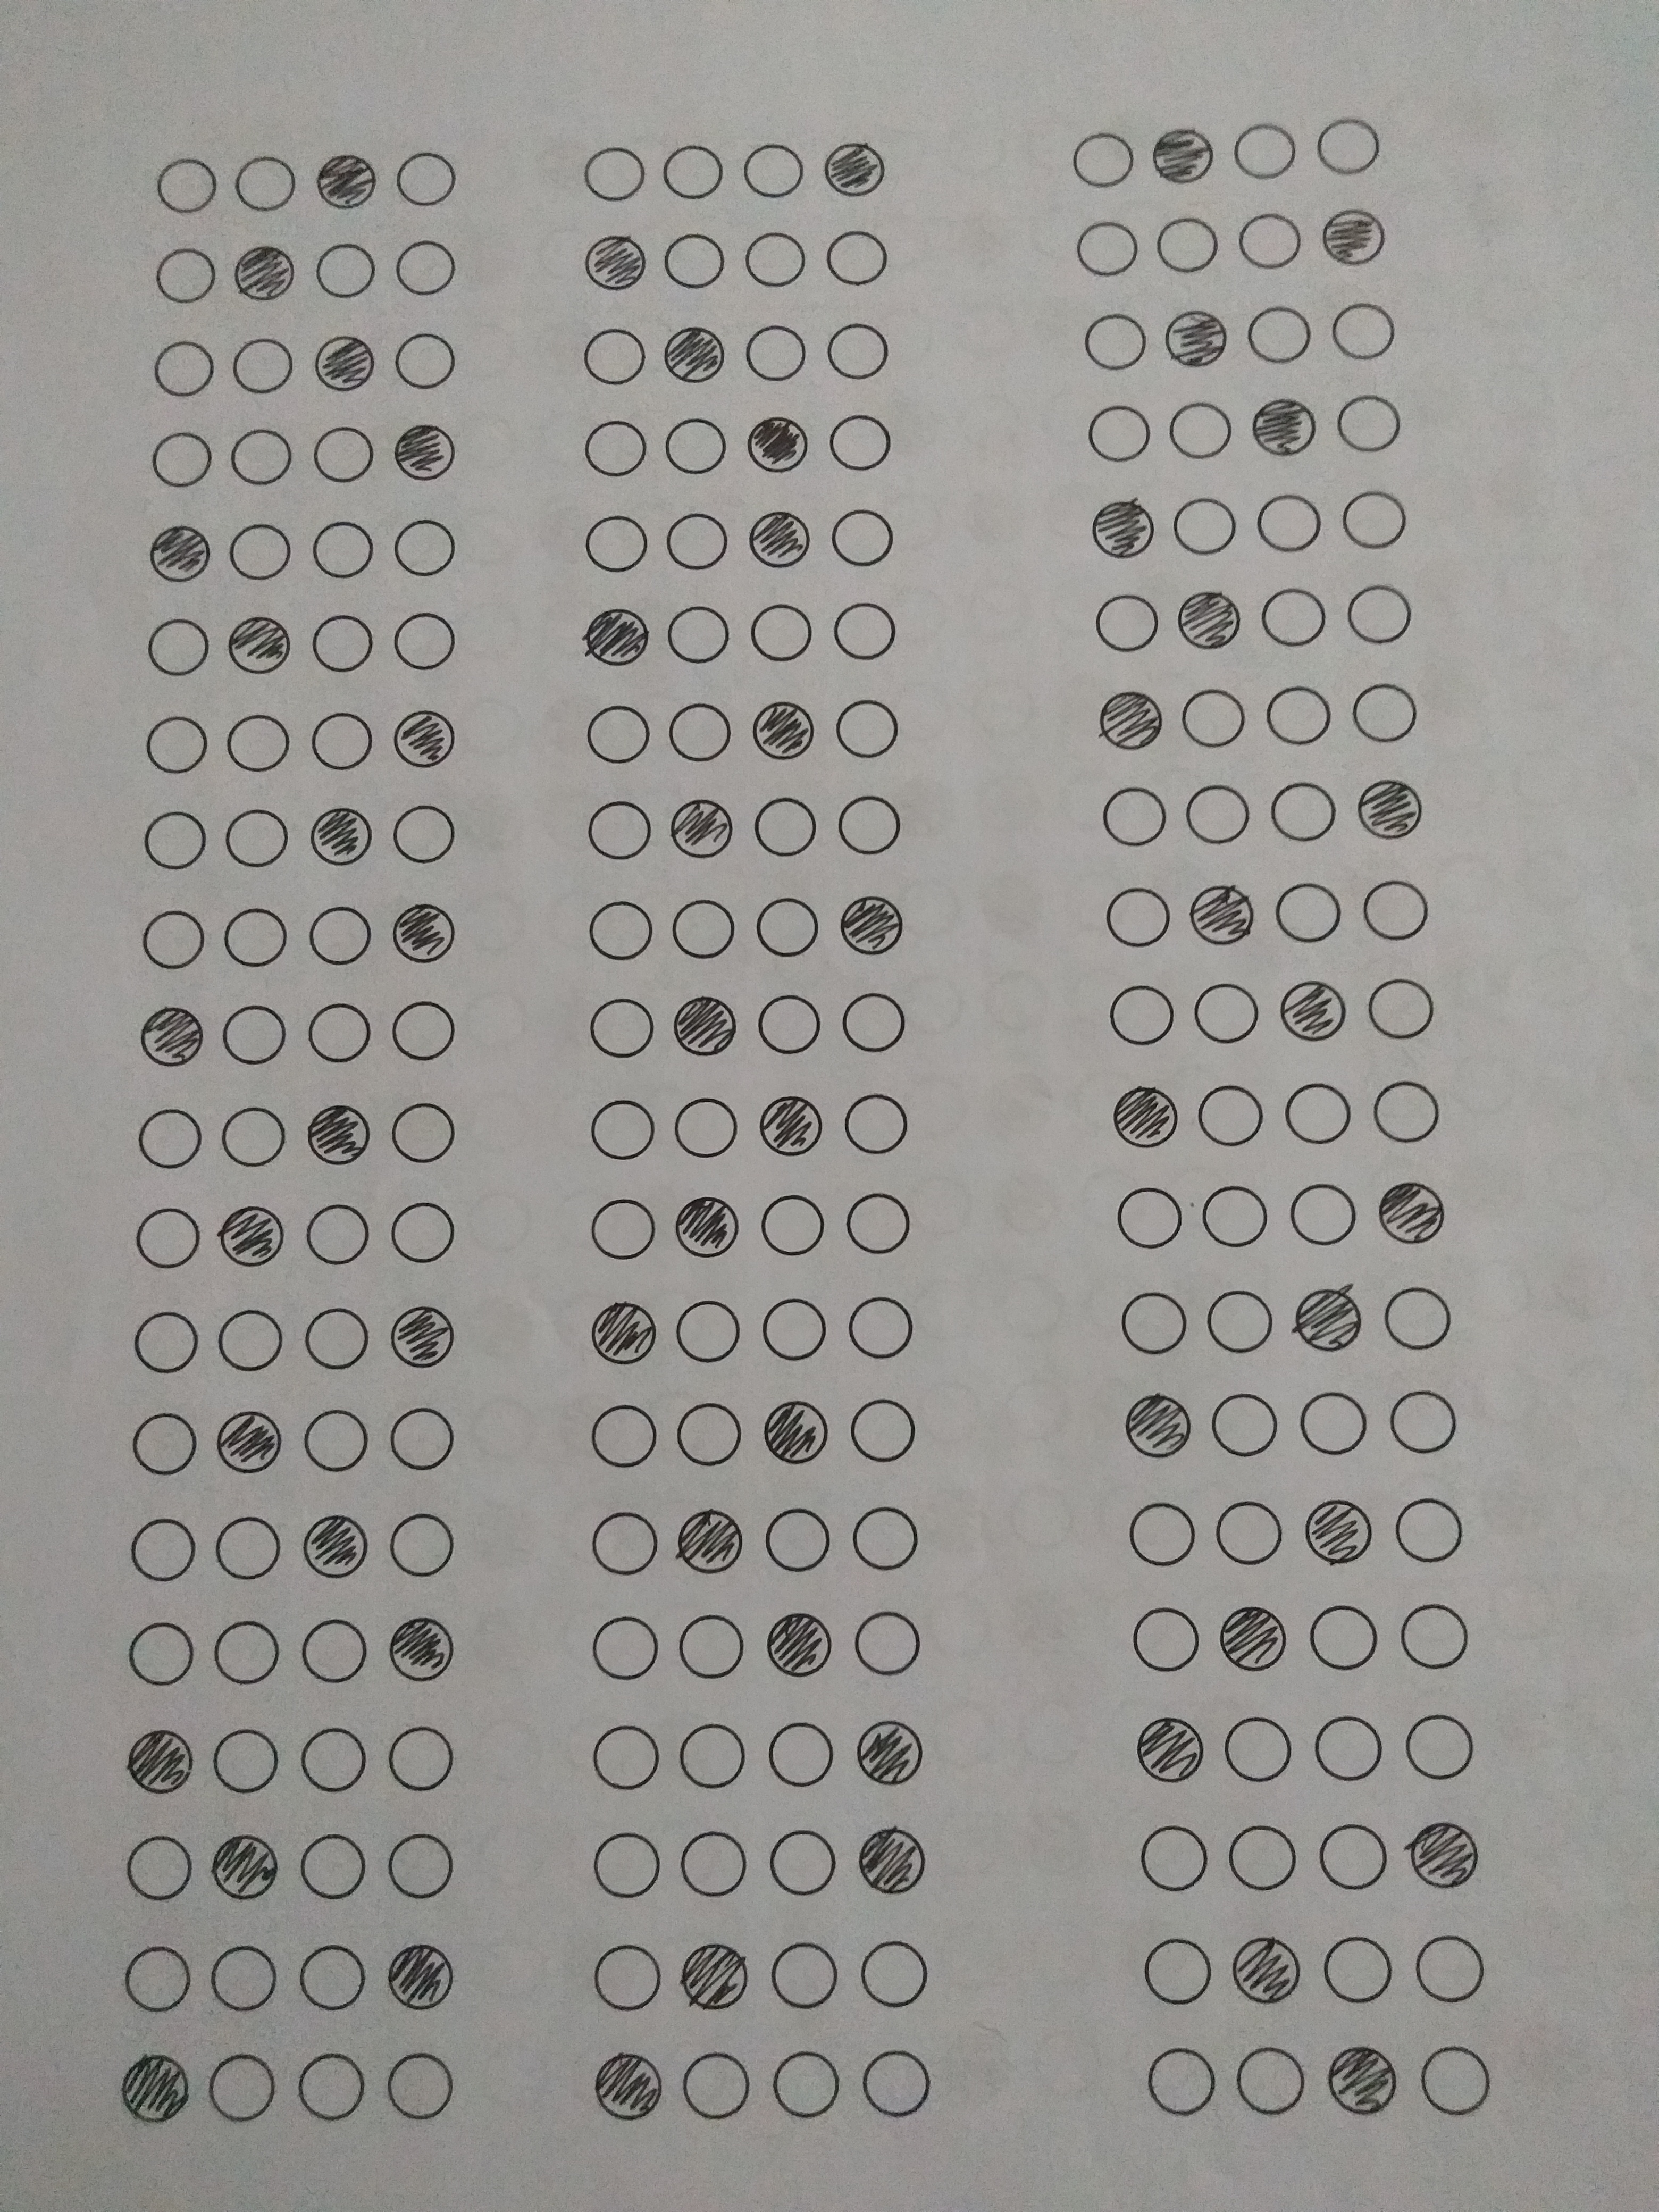not-c: (392, 237, 458, 300), (152, 244, 218, 307), (136, 1205, 202, 1268), (141, 907, 207, 970), (125, 1836, 192, 1898), (387, 1728, 453, 1791), (211, 1728, 277, 1791), (129, 1622, 195, 1684), (131, 1519, 197, 1581), (390, 1407, 457, 1470), (301, 1409, 368, 1472), (831, 599, 897, 662), (666, 509, 732, 571), (823, 320, 889, 383), (741, 141, 807, 204), (671, 1097, 737, 1160), (681, 1724, 748, 1787), (767, 1507, 833, 1569), (1134, 1608, 1201, 1670), (772, 2054, 838, 2116), (683, 2054, 749, 2116), (770, 1944, 836, 2006), (594, 1946, 660, 2008), (770, 1832, 836, 1895), (1229, 1825, 1295, 1888), (1324, 1939, 1391, 2001), (1389, 1390, 1455, 1453), (1209, 1393, 1276, 1456), (1094, 590, 1161, 653), (1178, 686, 1244, 749), (1194, 982, 1260, 1045), (1201, 1184, 1267, 1247), (153, 157, 218, 219), (225, 712, 289, 775), (392, 610, 457, 672), (146, 615, 211, 678), (392, 516, 457, 578), (312, 421, 376, 484), (312, 239, 376, 301), (303, 1306, 368, 1369), (218, 1308, 282, 1371), (134, 1310, 199, 1372), (390, 1000, 455, 1062), (221, 1003, 286, 1066), (124, 1947, 188, 2010), (211, 2057, 275, 2120), (748, 601, 812, 664), (742, 230, 807, 293), (662, 139, 727, 202), (845, 1191, 910, 1254), (756, 895, 821, 958), (596, 1832, 660, 1895), (594, 1616, 659, 1679), (852, 1507, 917, 1569), (592, 1512, 657, 1575), (1141, 1827, 1206, 1890), (683, 1832, 748, 1895), (1122, 1292, 1187, 1355), (1302, 1392, 1366, 1454), (1215, 1501, 1279, 1564), (1101, 787, 1166, 850), (1199, 1083, 1263, 1146), (1291, 1184, 1356, 1247), (1344, 489, 1408, 552), (1171, 496, 1236, 559), (1154, 212, 1218, 275), (308, 712, 375, 773), (310, 519, 376, 580), (227, 521, 293, 582), (230, 333, 296, 394), (152, 336, 218, 397), (389, 1101, 455, 1162), (220, 1106, 286, 1167), (136, 1108, 202, 1169), (305, 1001, 371, 1062), (308, 906, 375, 967), (223, 907, 289, 968), (225, 805, 291, 866), (143, 808, 209, 869), (209, 1947, 275, 2008), (301, 1728, 368, 1789), (301, 1620, 368, 1681), (389, 1514, 455, 1575), (129, 1413, 195, 1474), (387, 2055, 453, 2116), (835, 794, 901, 855), (751, 796, 817, 857), (587, 798, 653, 859), (835, 698, 901, 759), (667, 702, 734, 763), (666, 603, 732, 664), (660, 420, 727, 481), (582, 418, 648, 479), (582, 143, 648, 204), (760, 1298, 826, 1359), (760, 1193, 826, 1254), (842, 1092, 908, 1153), (591, 1099, 657, 1160), (840, 991, 906, 1052), (589, 998, 655, 1059), (856, 1613, 922, 1674), (849, 1400, 915, 1461), (676, 1406, 742, 1467), (1143, 1940, 1209, 2001), (1225, 1719, 1291, 1780), (1415, 1939, 1481, 2000), (1420, 2050, 1486, 2111), (1237, 2050, 1303, 2111), (1206, 1292, 1272, 1353), (1394, 1501, 1460, 1562), (1127, 1503, 1194, 1564), (1265, 685, 1331, 745), (1363, 880, 1429, 941), (1276, 885, 1342, 946), (1105, 885, 1171, 946), (1108, 986, 1175, 1047), (1117, 1188, 1183, 1249), (1166, 399, 1232, 460), (1087, 402, 1154, 463), (1260, 587, 1326, 648), (1256, 493, 1323, 554), (1345, 582, 1412, 643), (1314, 117, 1380, 178), (1230, 120, 1297, 181), (1330, 300, 1396, 361), (1082, 310, 1147, 371), (146, 712, 211, 773), (310, 613, 375, 674), (228, 427, 293, 488), (150, 428, 214, 489), (390, 329, 455, 390), (232, 153, 296, 214), (390, 1202, 455, 1263), (305, 1204, 369, 1264), (392, 805, 457, 866), (301, 1947, 366, 2008), (389, 1836, 453, 1897), (300, 1836, 364, 1897), (213, 1622, 277, 1683), (216, 1515, 281, 1576), (298, 2055, 362, 2116), (586, 704, 650, 765), (829, 507, 894, 568), (584, 514, 648, 575), (829, 413, 894, 474), (741, 322, 805, 383), (582, 326, 647, 387), (826, 228, 890, 289), (662, 228, 727, 289), (591, 1404, 655, 1465), (847, 1299, 911, 1360), (676, 1299, 741, 1360), (592, 1198, 657, 1259), (756, 995, 821, 1055), (671, 899, 735, 960), (589, 899, 653, 960), (769, 1724, 833, 1785), (594, 1724, 659, 1785), (681, 1616, 746, 1677), (1148, 2052, 1213, 2113), (863, 2050, 927, 2111), (863, 1944, 927, 2005), (1401, 1608, 1466, 1669), (1310, 1608, 1375, 1669), (1316, 1717, 1380, 1778), (1406, 1717, 1471, 1778), (1321, 1827, 1385, 1888), (1385, 1287, 1450, 1348), (1354, 685, 1419, 745), (1270, 784, 1335, 845), (1183, 784, 1248, 845), (1366, 979, 1431, 1040), (1373, 1080, 1438, 1141), (1284, 1083, 1349, 1144), (1337, 390, 1401, 451), (1070, 132, 1134, 193), (1237, 209, 1302, 270), (1075, 218, 1140, 279), (1246, 303, 1310, 364), (396, 150, 458, 209)
taken-c: (1408, 1818, 1483, 1893), (118, 2052, 195, 2125), (594, 2048, 667, 2121), (852, 1716, 925, 1789), (1328, 2043, 1401, 2116), (678, 1942, 751, 2013), (125, 1724, 199, 1794), (207, 1832, 282, 1900), (1220, 1601, 1290, 1672), (213, 1411, 286, 1479), (1134, 1716, 1208, 1784), (1229, 1935, 1303, 2001), (1187, 881, 1258, 949), (1122, 1392, 1195, 1458), (1375, 1179, 1448, 1245), (387, 420, 462, 484), (300, 1514, 369, 1581), (859, 1825, 927, 1895), (1293, 1285, 1363, 1353), (836, 890, 906, 958), (1175, 585, 1243, 655), (1302, 1498, 1373, 1564), (387, 1942, 455, 2010), (765, 1611, 833, 1679), (1281, 974, 1349, 1042), (387, 1303, 457, 1369), (387, 1613, 453, 1683), (674, 1507, 744, 1573), (1112, 1083, 1182, 1150), (1249, 395, 1319, 462), (216, 1202, 288, 1266), (134, 1005, 207, 1068), (762, 1400, 835, 1463), (1100, 686, 1166, 754), (390, 900, 460, 965), (671, 1193, 741, 1258), (1159, 310, 1232, 371), (305, 1103, 371, 1169), (1089, 498, 1157, 563), (742, 413, 812, 475), (758, 1092, 824, 1157), (591, 1303, 659, 1366), (667, 794, 735, 857), (749, 700, 819, 761), (1148, 122, 1218, 183), (310, 803, 375, 867), (586, 603, 650, 667), (225, 615, 293, 676), (749, 509, 817, 570), (662, 322, 730, 383), (1319, 207, 1389, 266), (584, 230, 648, 293), (671, 995, 737, 1055), (230, 242, 298, 301), (394, 709, 458, 770), (146, 523, 213, 582), (823, 141, 890, 199), (315, 333, 380, 392), (317, 152, 378, 211), (1358, 780, 1420, 838)
